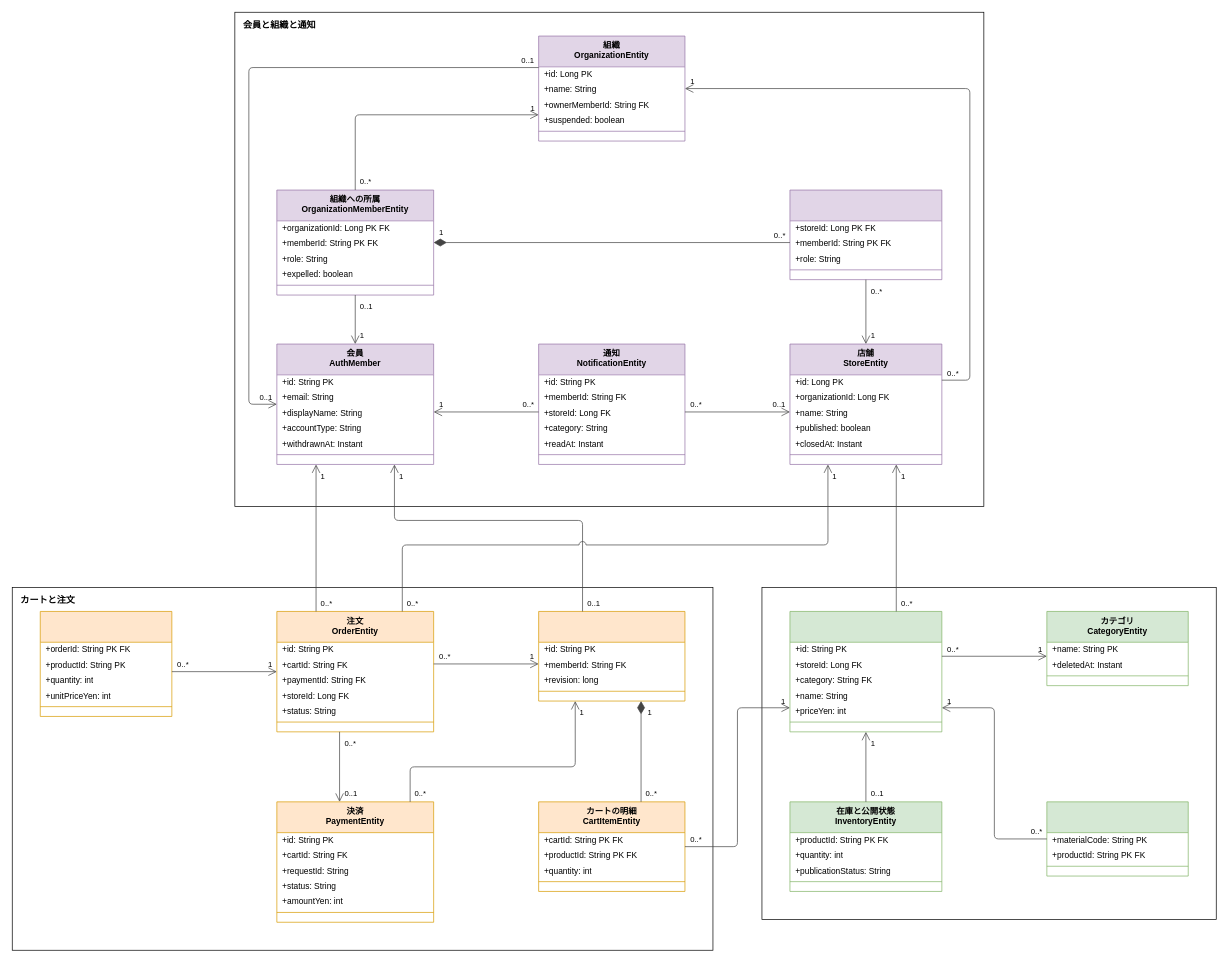
This 1229x963 diagram has some shape labels left out. Each missing label, with the box of its shape:
カート CartEntity: (538, 611, 685, 701)
商品: (761, 587, 1216, 919)
商品 ProductEntity: (789, 611, 942, 732)
店舗の担当 StoreMemberEntity: (789, 189, 942, 280)
注文の明細 OrderItemEntity: (40, 611, 172, 716)
素材コードと商品の対応 MaterialProductEntity: (1046, 801, 1188, 876)
